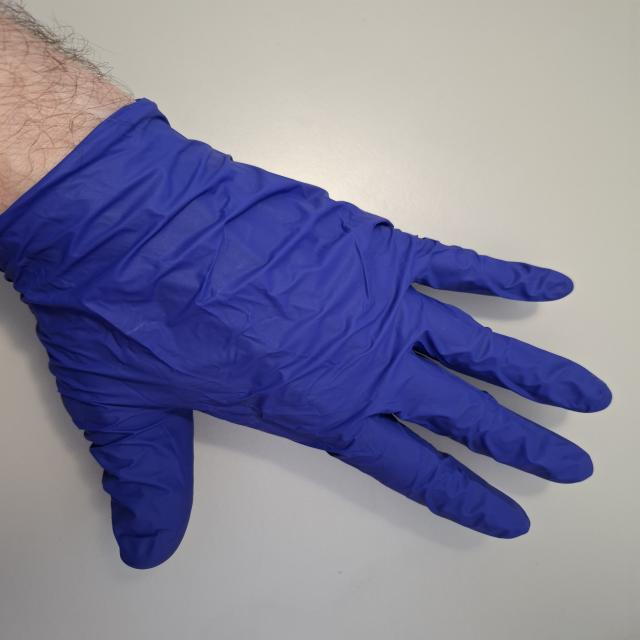glove_on: (0, 96, 616, 571)
